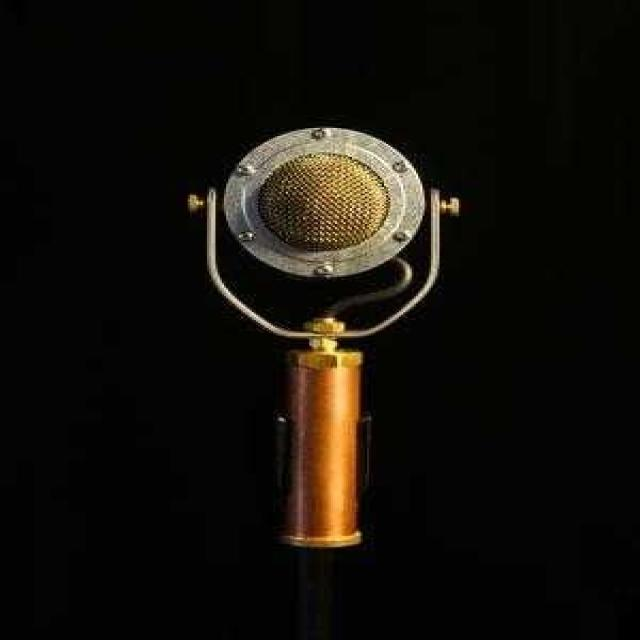microphone: (190, 125, 454, 632)
